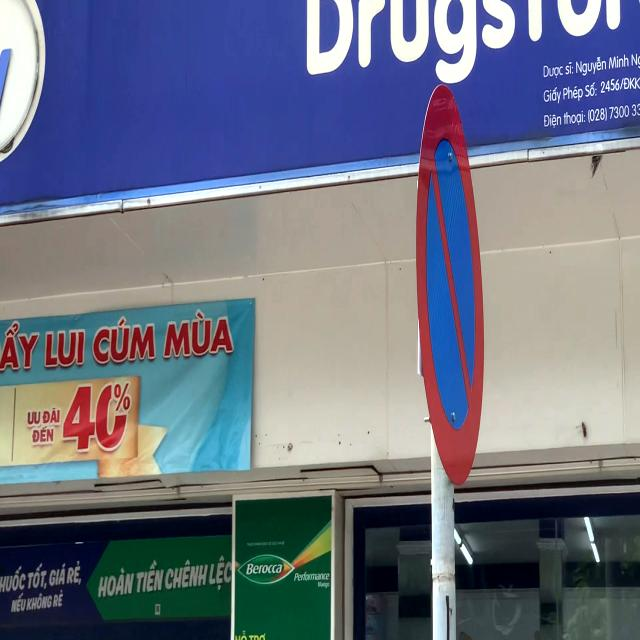P.131a: (416, 83, 486, 492)
